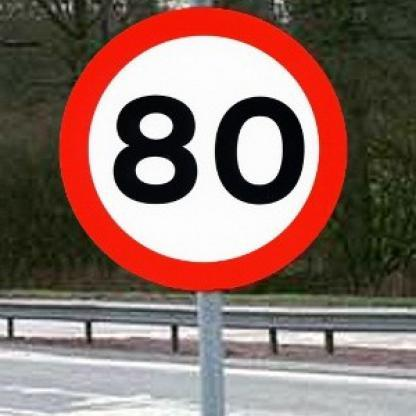Speed Limit 80: (66, 7, 349, 288)
